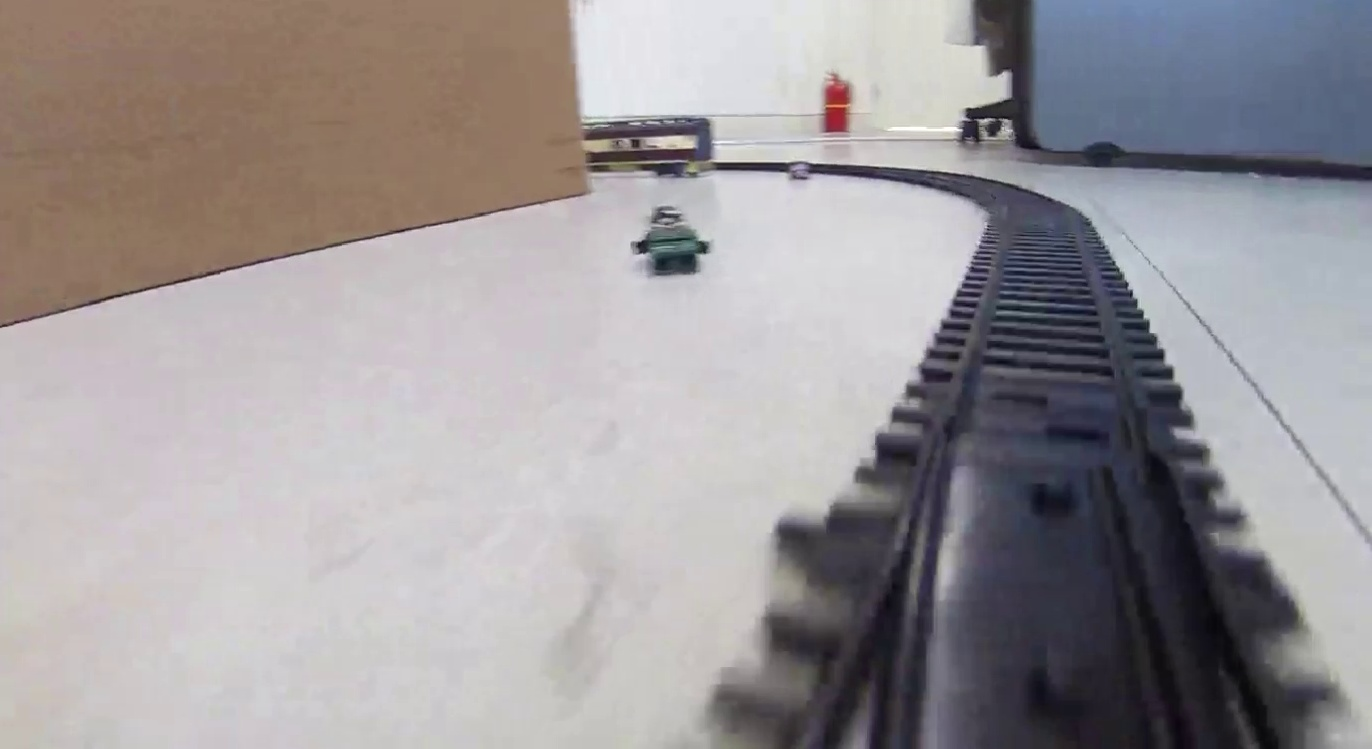people: (628, 203, 713, 277)
